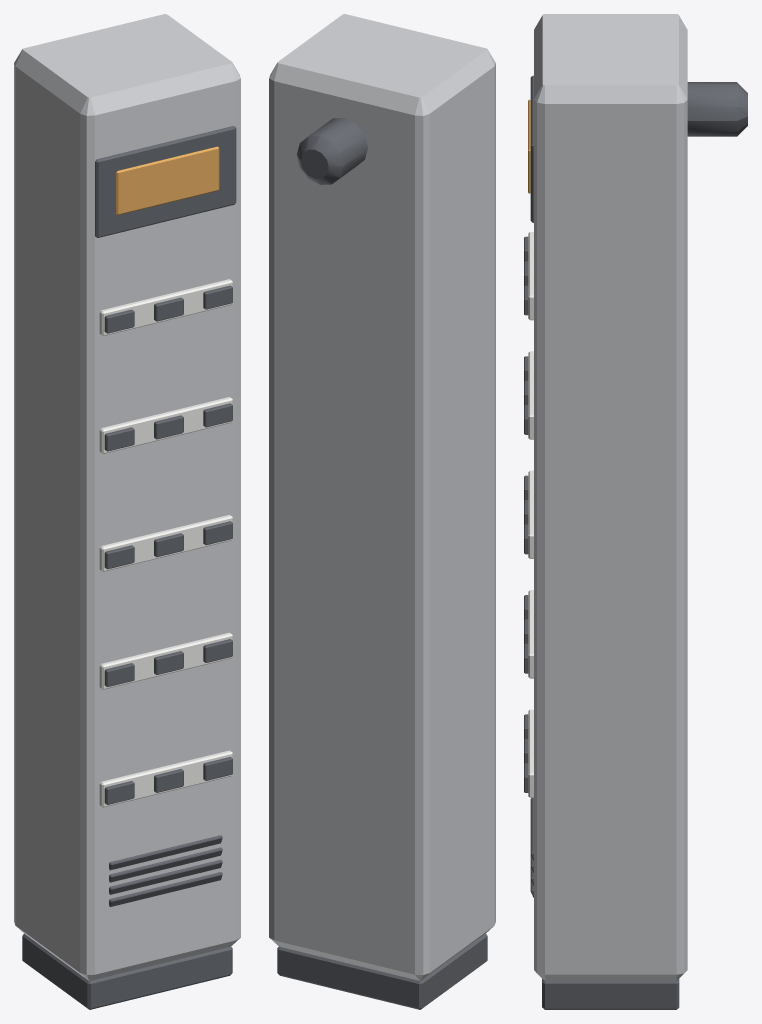
File: office-lobby-and-facilities-floor-pdu-6e62ee4e__26196.glb
3 renders of one model, left to right at view 1: azimuth 30°, elevation 25°; view 2: azimuth 150°, elevation 25°; view 3: azimuth 270°, elevation 25°, orthographic.
Visible parts, largest first — view 1: floor-pdu; view 2: floor-pdu; view 3: floor-pdu.
Part boxes in pixels (left/top/right/bottom): floor-pdu: left=14, top=14, right=240, bottom=1009; floor-pdu: left=269, top=14, right=495, bottom=1009; floor-pdu: left=524, top=14, right=747, bottom=1009.
Size of the model in its own units: 0.3399 by 1.86 by 0.408.
